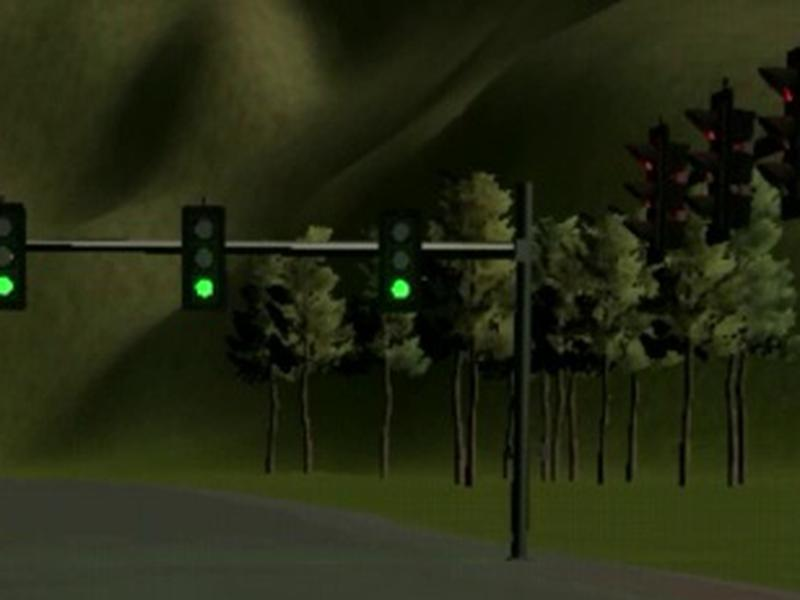Green: (180, 204, 226, 310), (379, 214, 421, 311), (1, 201, 26, 309)
